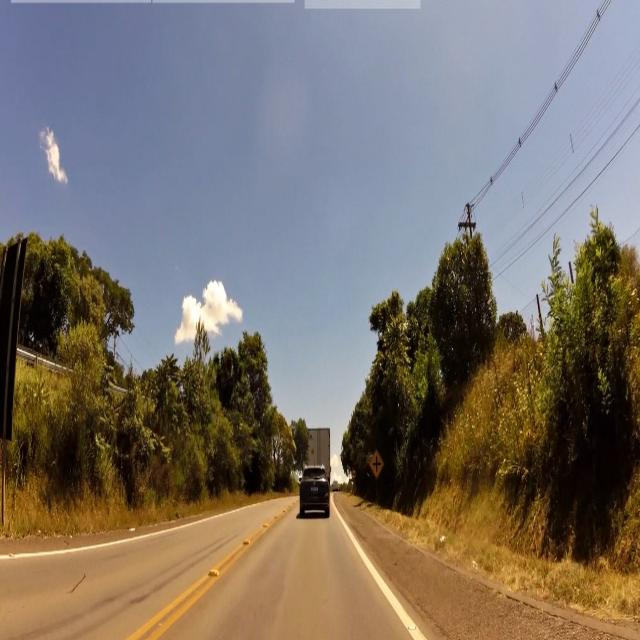A-6: (369, 448, 384, 479)
